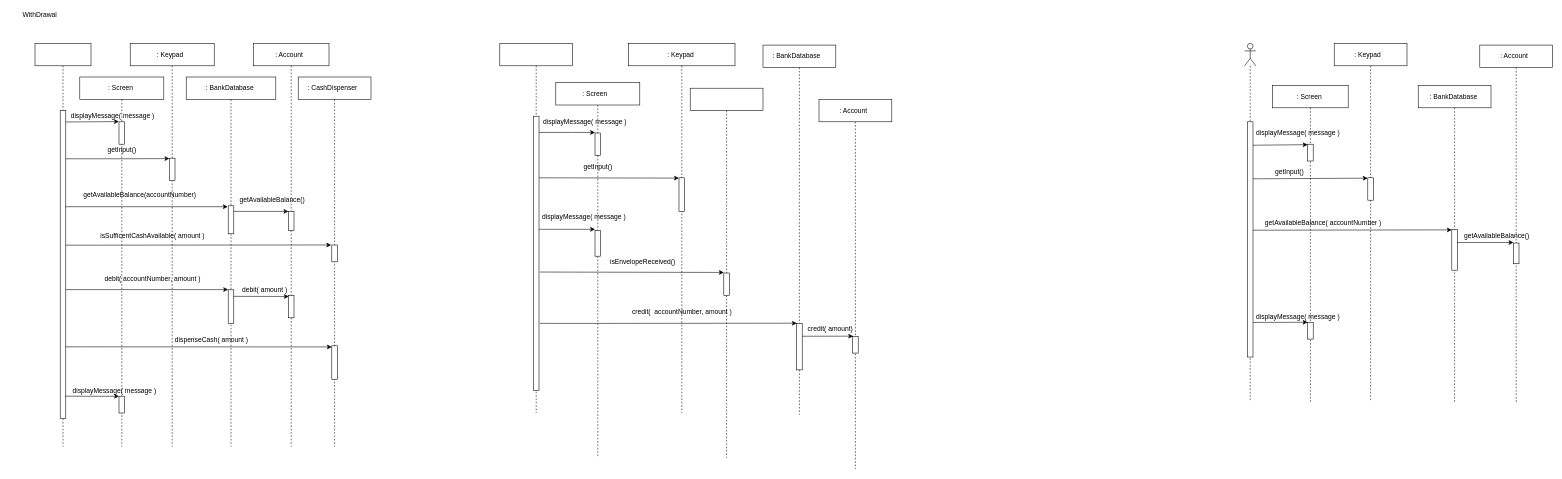
The diagram is 1562 pixels wide and 479 high, and some of its shapes have lost their labels. Each missing label, with the box of its shape:
: Deposit: (499, 43, 573, 413)
: DepositSlot: (690, 88, 763, 458)
: Withdrawal: (34, 43, 91, 447)
